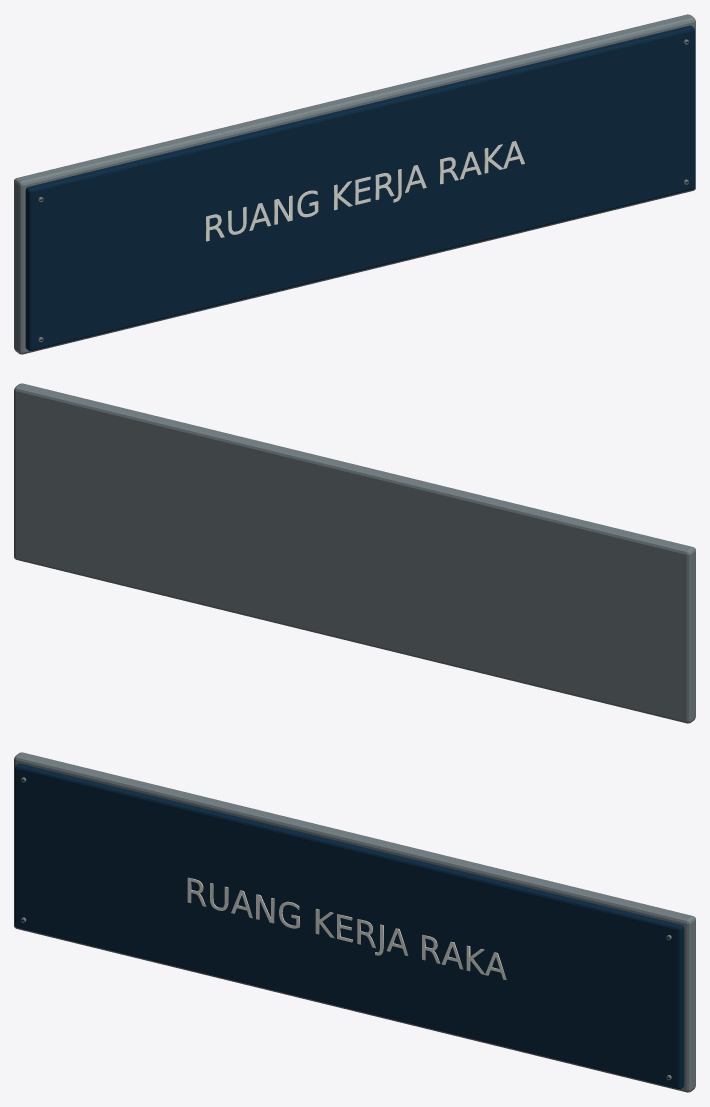
File: OAA_Papan_Ruang_Ruang_Kerja_Raka.fbx
The picture shows the model from 3 angles, top to bottom: view 1: azimuth 30°, elevation 25°; view 2: azimuth 150°, elevation 25°; view 3: azimuth 330°, elevation 25°; orthographic projection.
Parts seen in each view (by area): view 1: Body; view 2: Body; view 3: Body.
Part boxes in pixels (<box>): Body: <box>14,14,695,354</box>; Body: <box>14,383,695,723</box>; Body: <box>14,752,695,1092</box>.
Size of the model in its own units: 0.9 by 0.22 by 0.0312.
